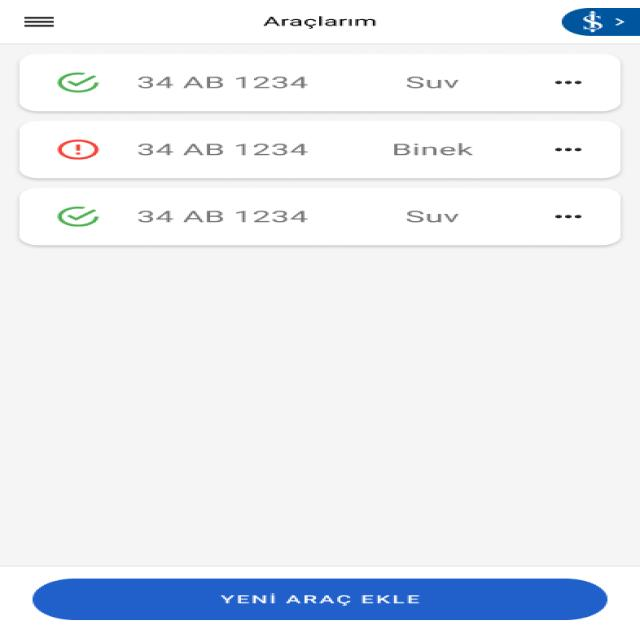QLabel: (129, 71, 313, 92), (130, 142, 307, 158), (218, 593, 430, 606), (132, 209, 310, 223), (257, 13, 378, 31), (387, 140, 475, 159), (398, 73, 462, 90), (403, 210, 462, 223)
VAppBar: (0, 0, 640, 44)
VBtn: (32, 579, 616, 621)
VCard: (14, 53, 625, 114), (14, 120, 625, 181), (16, 188, 622, 248)
VFooter: (1, 566, 639, 640)
VIcon: (50, 70, 105, 96), (54, 205, 102, 227), (55, 138, 100, 161), (16, 14, 60, 30), (549, 78, 585, 87), (549, 146, 585, 154), (548, 213, 586, 220)
VImg: (560, 7, 638, 37)
